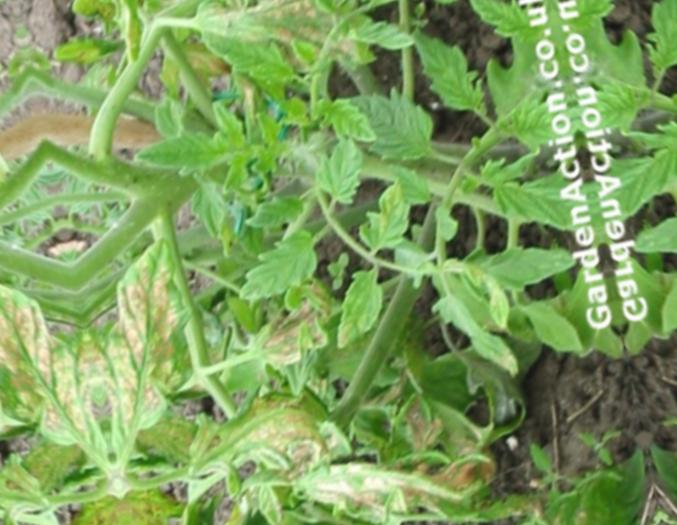Tomato leaf mosaic virus: (331, 81, 441, 175), (202, 16, 308, 109), (424, 287, 521, 388), (412, 21, 492, 128), (227, 228, 324, 307), (123, 124, 246, 185), (461, 236, 573, 301), (321, 268, 395, 351), (354, 183, 425, 257), (462, 0, 538, 58), (312, 138, 373, 208), (295, 0, 354, 30)
